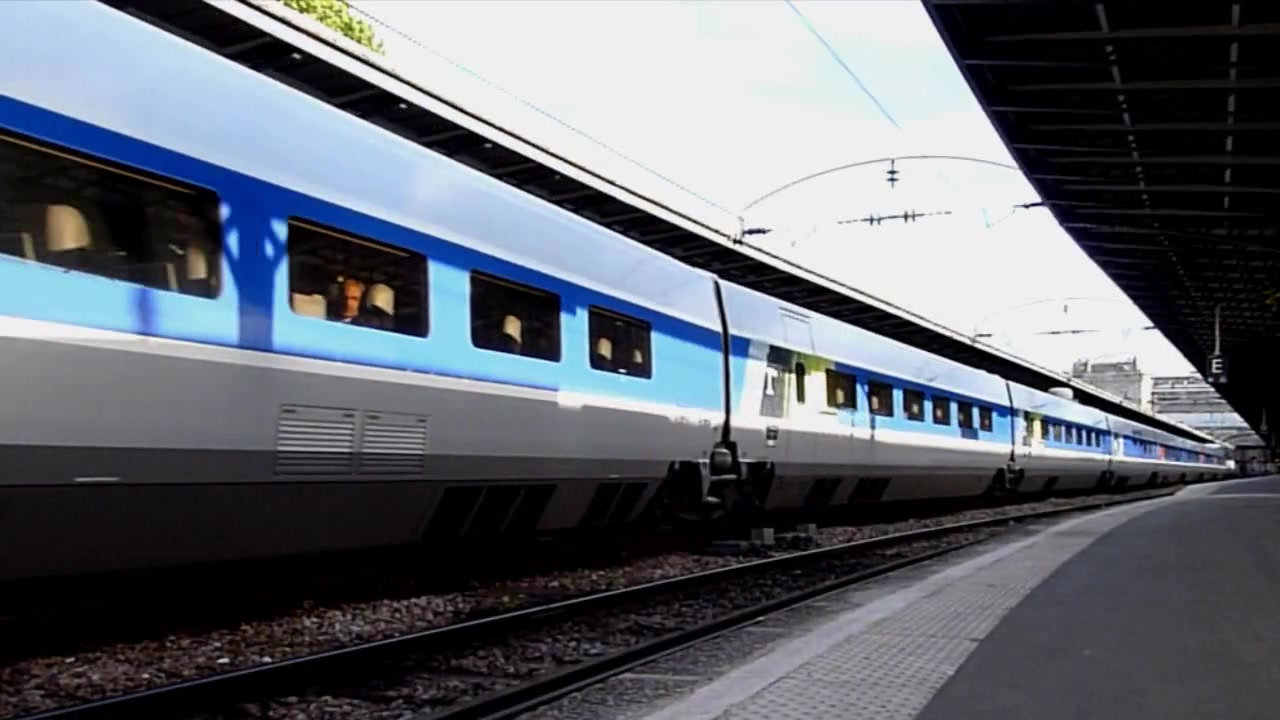train: (1, 1, 1233, 624)
